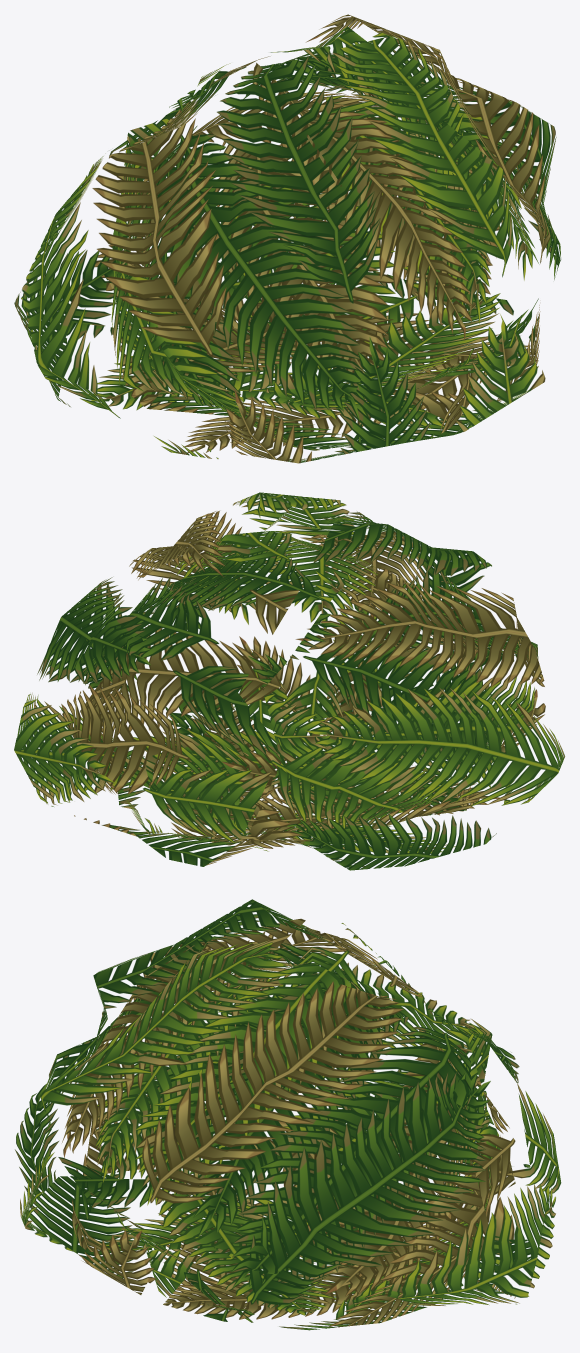
The model's file is SM_Env_Bush_02.glb.
3 views of the same model, one above another, from view 1: azimuth 30°, elevation 25°; view 2: azimuth 150°, elevation 25°; view 3: azimuth 270°, elevation 25° (orthographic). The views are drawn at different scales.
Parts seen in each view (by area): view 1: SM_Env_Bush_02_LOD0; view 2: SM_Env_Bush_02_LOD0; view 3: SM_Env_Bush_02_LOD0.
Part boxes in pixels (bbox=[...]): SM_Env_Bush_02_LOD0: bbox=[14, 14, 561, 463]; SM_Env_Bush_02_LOD0: bbox=[14, 492, 564, 870]; SM_Env_Bush_02_LOD0: bbox=[15, 899, 561, 1330].
Size of what is drawn, in the model's own units: 2.02 by 1.26 by 1.85.
Materials: 1 (1 with a texture image).
